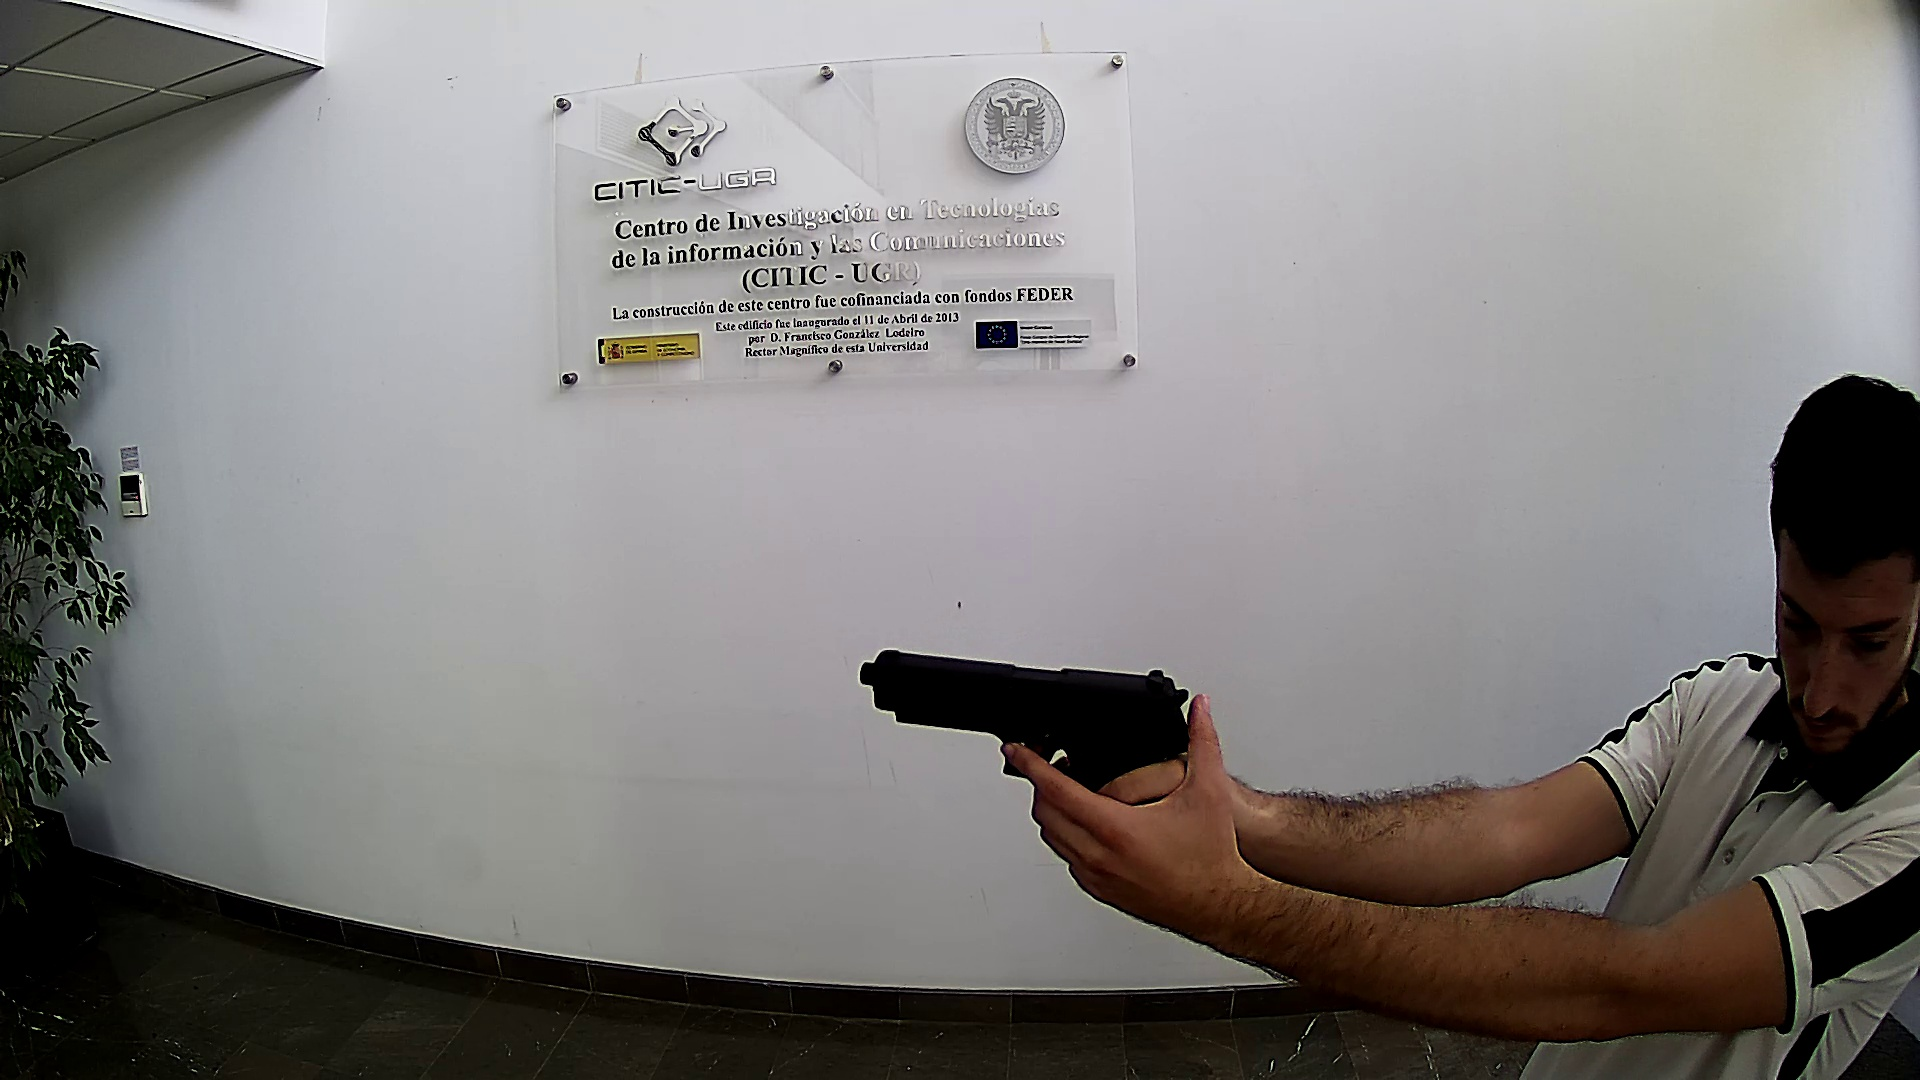pistol: (857, 647, 1196, 795)
